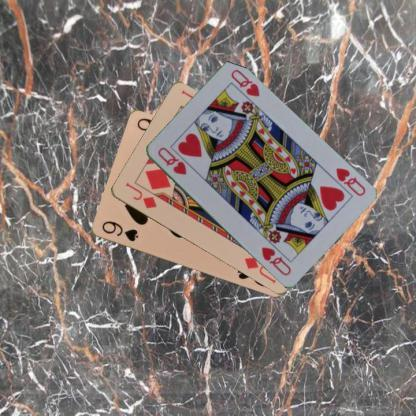9s: (98, 219, 140, 244)
Jd: (122, 180, 158, 210)
Qh: (333, 165, 367, 198), (154, 145, 188, 176)
